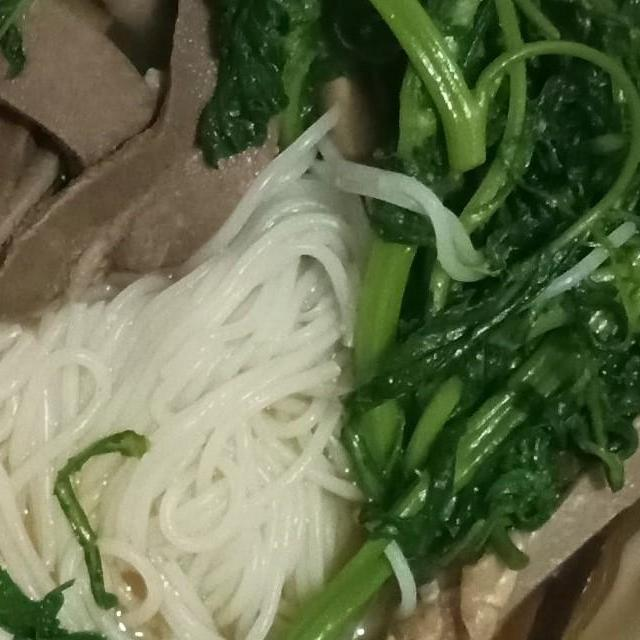bun: (0, 227, 408, 640)
